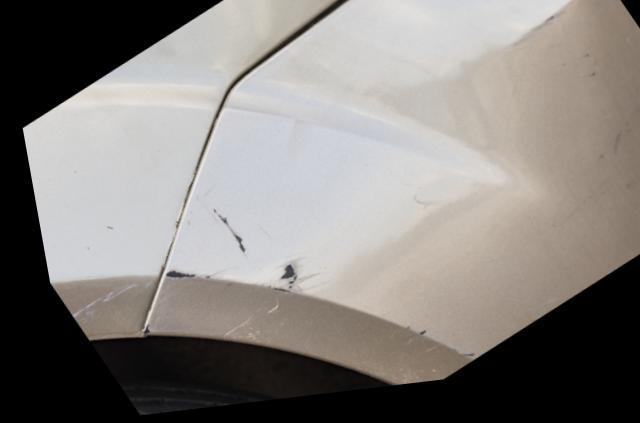scratch: (157, 201, 321, 323), (58, 278, 143, 325), (374, 330, 468, 372)
